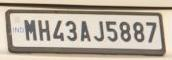3: (63, 20, 78, 42)
4: (52, 19, 65, 43)
5: (105, 19, 119, 43)
7: (146, 20, 158, 45)
8: (119, 20, 132, 42), (133, 20, 145, 43)
A: (80, 20, 92, 44)
H: (37, 18, 52, 42)
J: (93, 20, 105, 41)
M: (23, 18, 37, 42)
